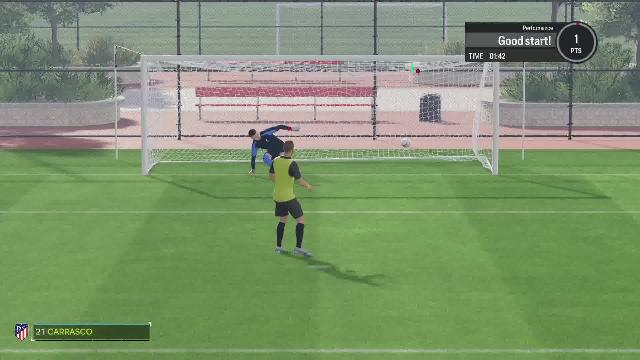football: (397, 136, 415, 150)
goal-bottom-left: (147, 126, 261, 176)
goal-bottom-right: (374, 124, 492, 174)
goal-middle-down: (262, 126, 374, 176)
goal-middle-up: (262, 63, 374, 125)
goal-top-left: (146, 63, 262, 126)
goal-top-right: (375, 63, 493, 124)
goalkeeper: (246, 124, 290, 174)
player: (268, 137, 310, 258)
